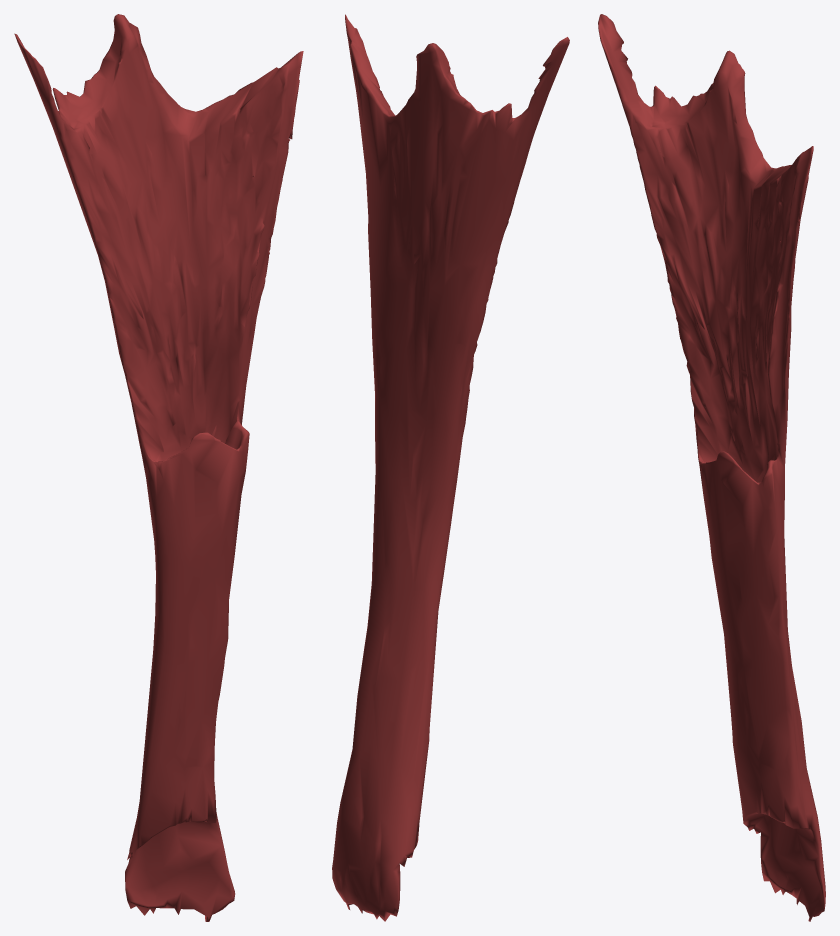
Rendered from calcaneal-tendon-r.glb.
3 renders of one model, left to right at view 1: azimuth 30°, elevation 25°; view 2: azimuth 150°, elevation 25°; view 3: azimuth 330°, elevation 25°, orthographic. The views are drawn at different scales.
Visible parts, largest first — view 1: Calcaneal tendon.r; view 2: Calcaneal tendon.r; view 3: Calcaneal tendon.r.
Boxes of the visible parts, x1,y1,x2,y2 form: Calcaneal tendon.r: [14, 14, 303, 921]; Calcaneal tendon.r: [332, 14, 569, 921]; Calcaneal tendon.r: [598, 14, 825, 921].
Bounding box in the file's own units: 0.0631 × 0.2201 × 0.0272.
